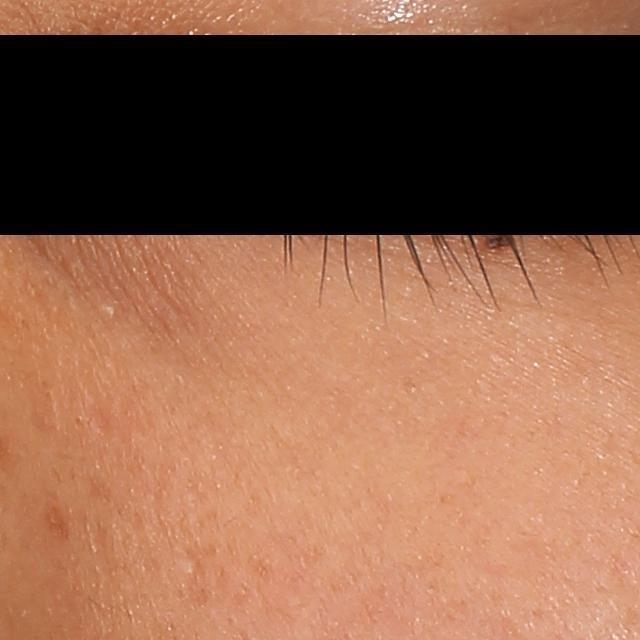comedo: (181, 558, 200, 577)
melasma: (33, 497, 81, 545)
nevus: (480, 226, 520, 252)
